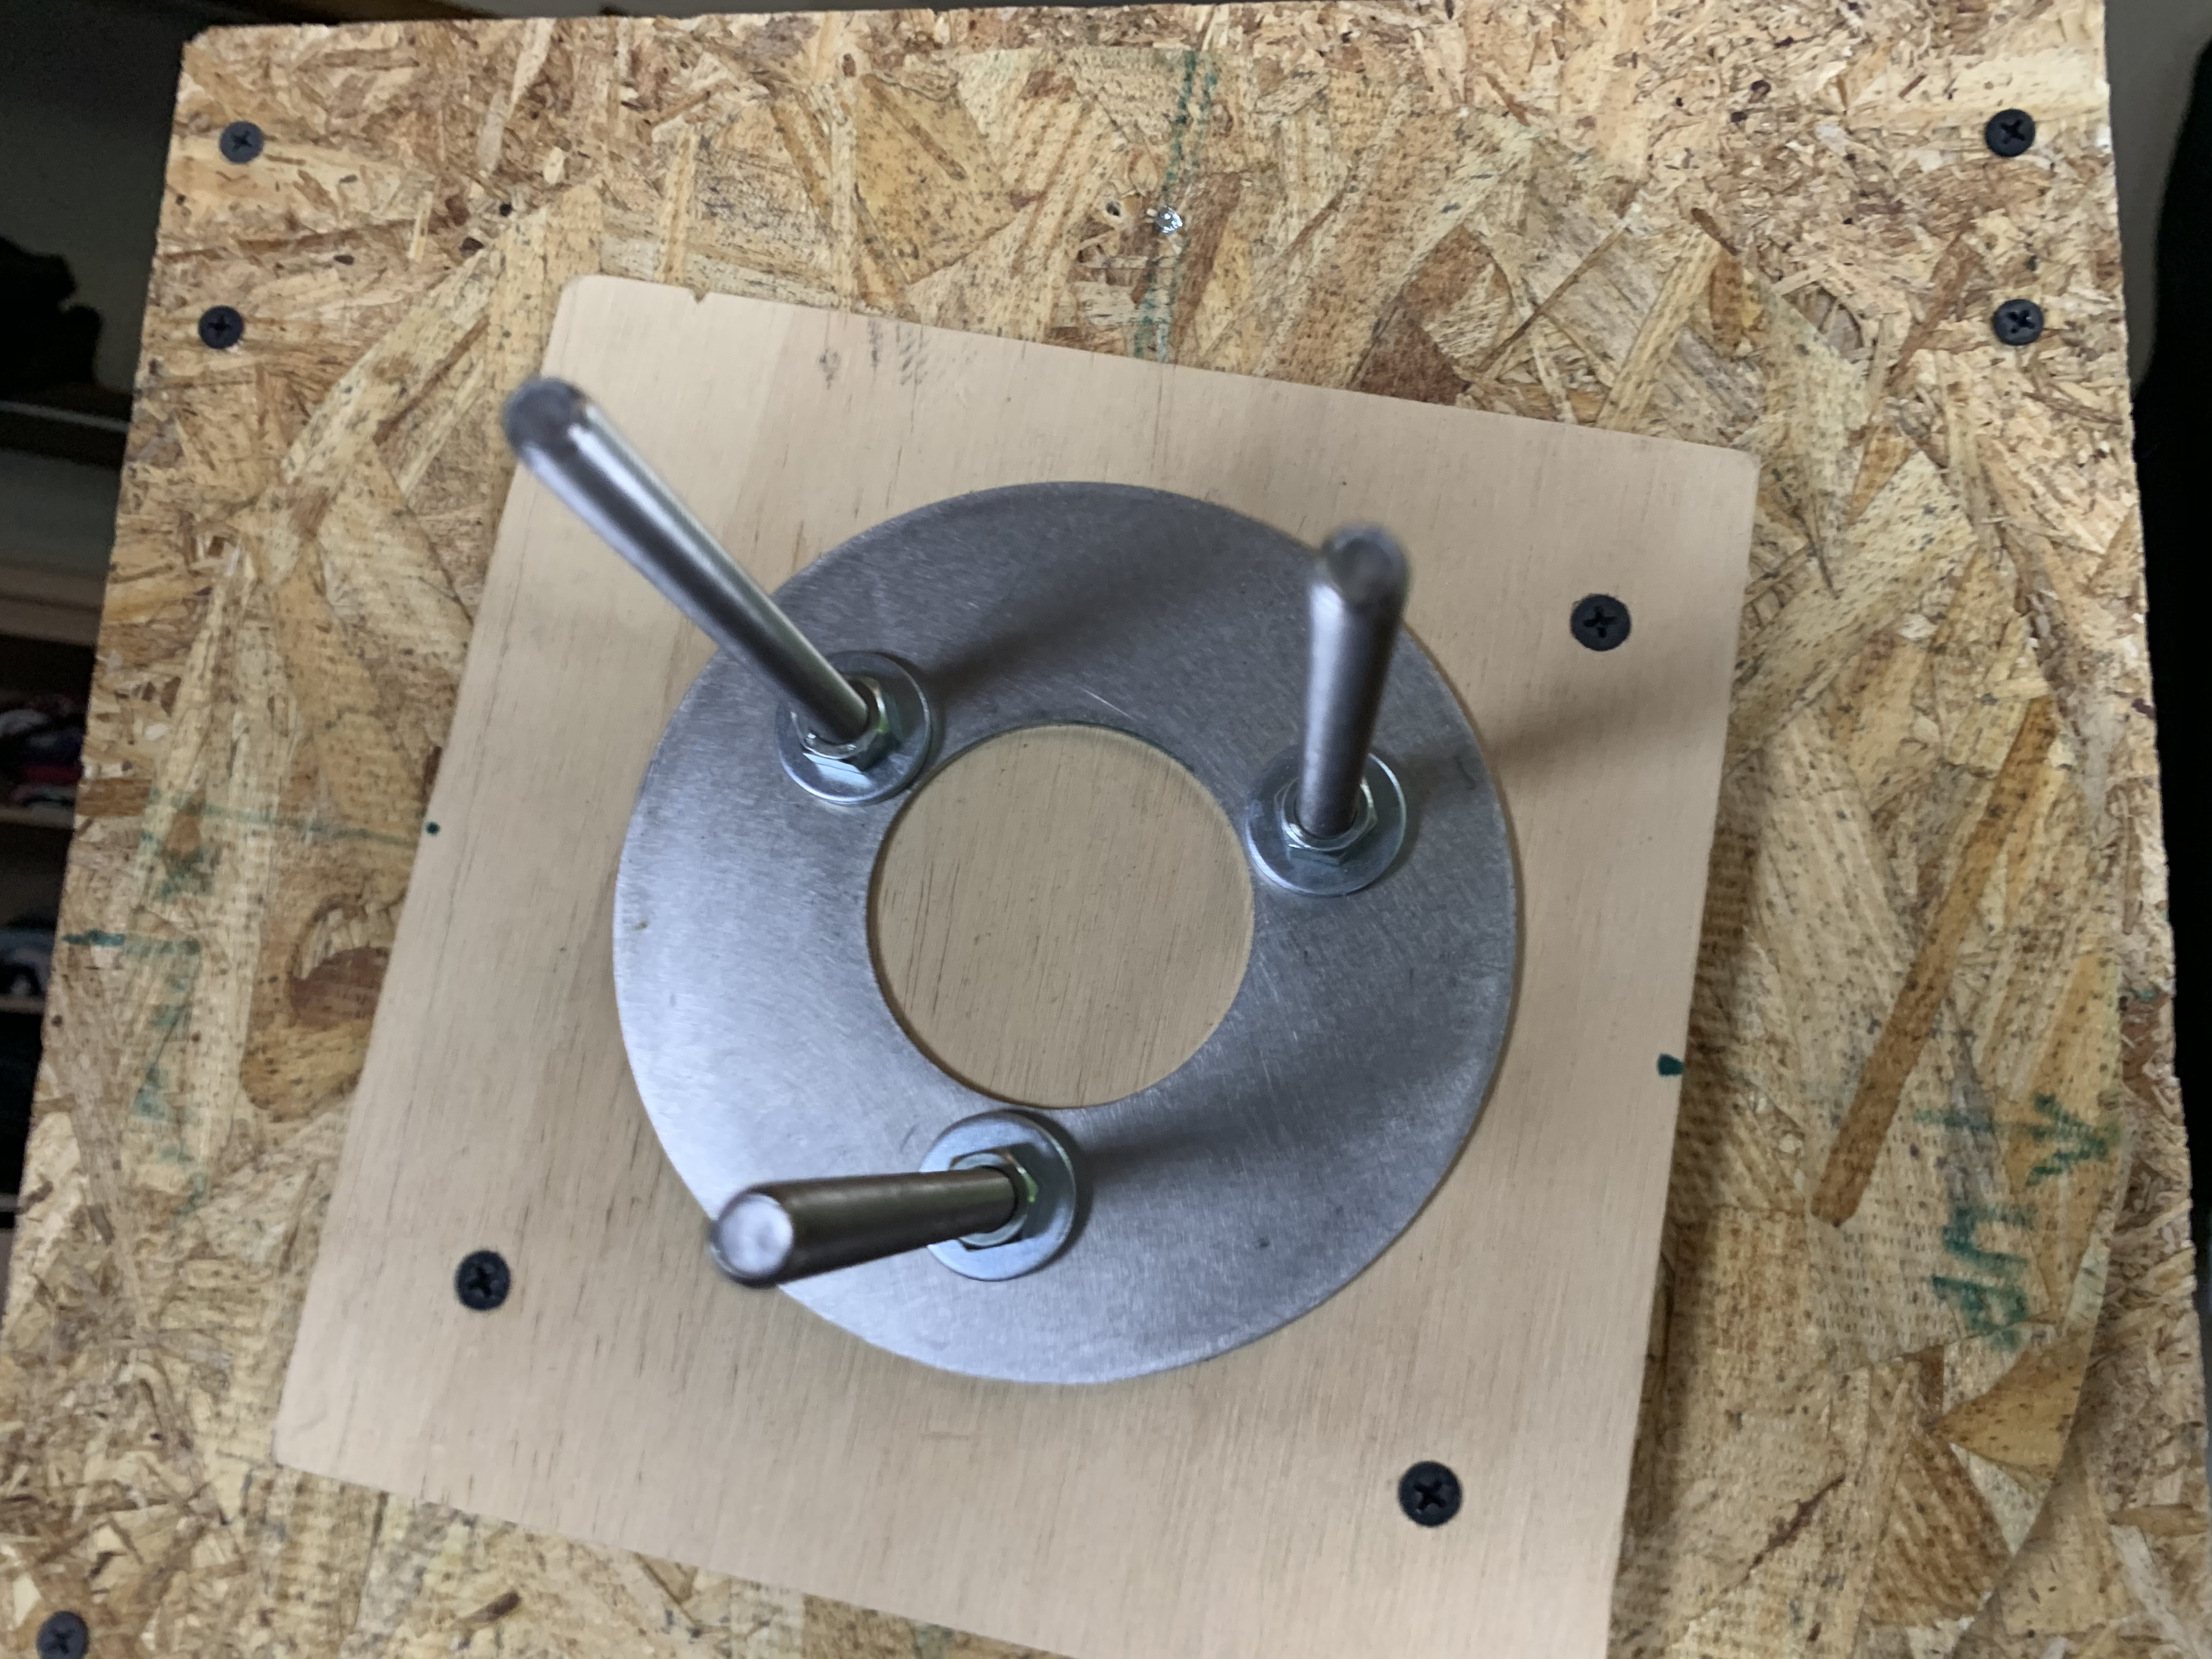bolt: (913, 1107, 1085, 1277), (773, 647, 944, 809), (1242, 744, 1409, 897)
